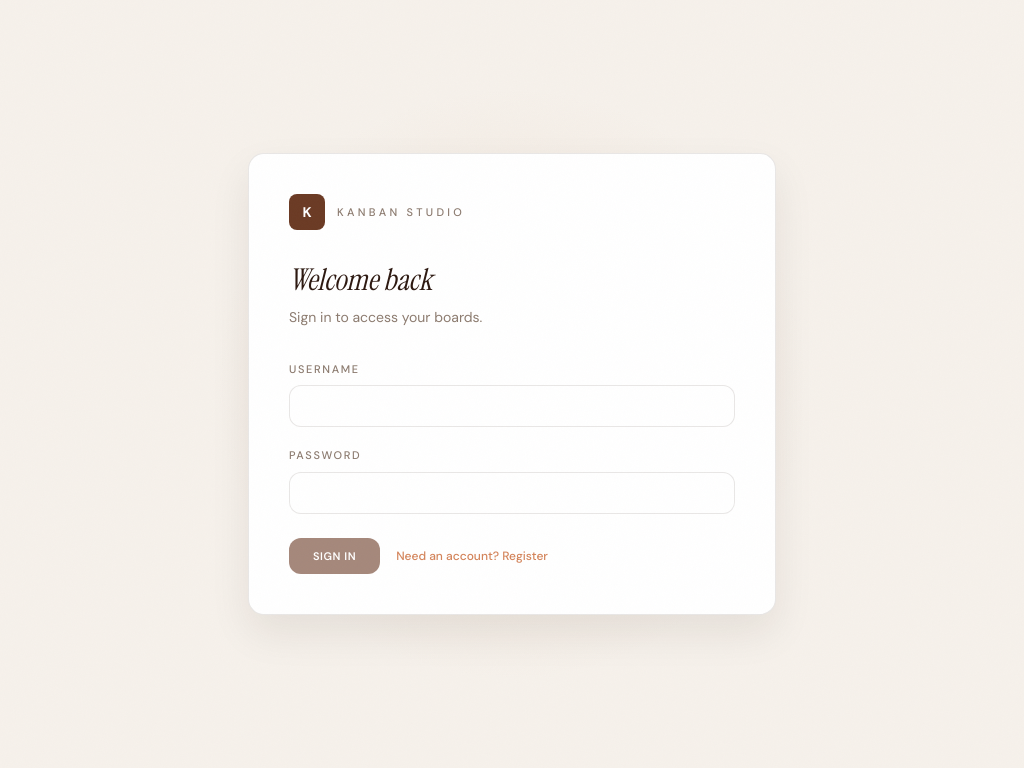
Test case: Home auth flow › logs in successfully and stores token
Type "user" into the field labelled "Username". click: (512, 406)
box: x1=289 y1=385 x2=735 y2=427
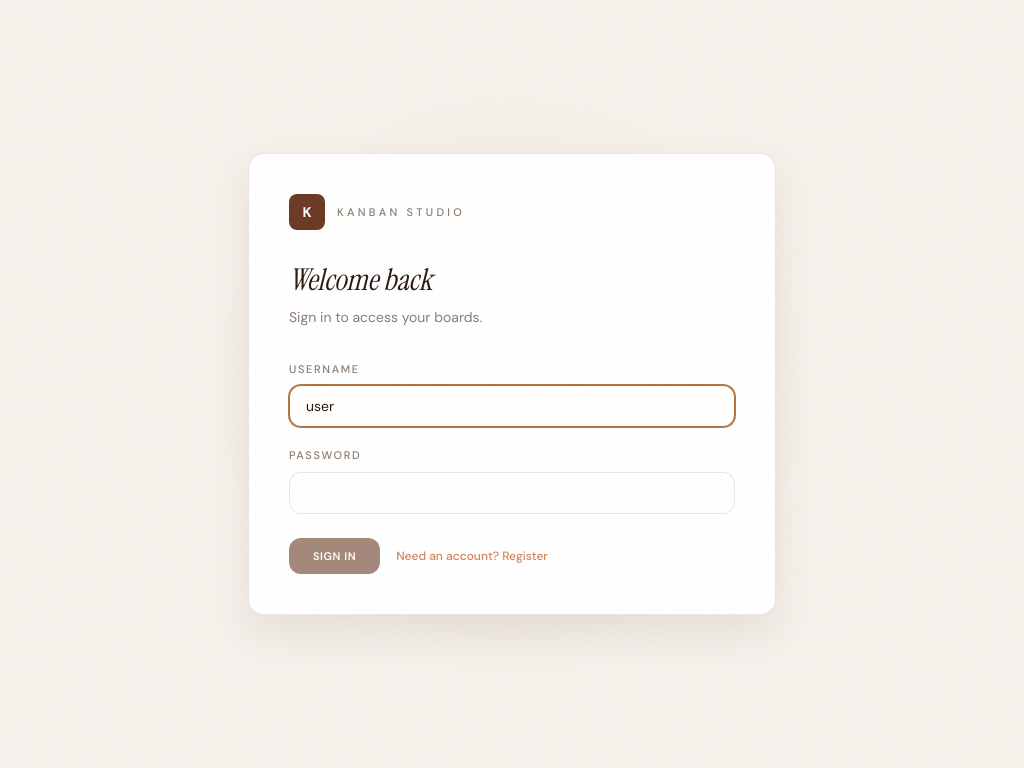
Type "password" into the password field labelled "Password". click: (512, 493)
box: x1=289 y1=472 x2=735 y2=514
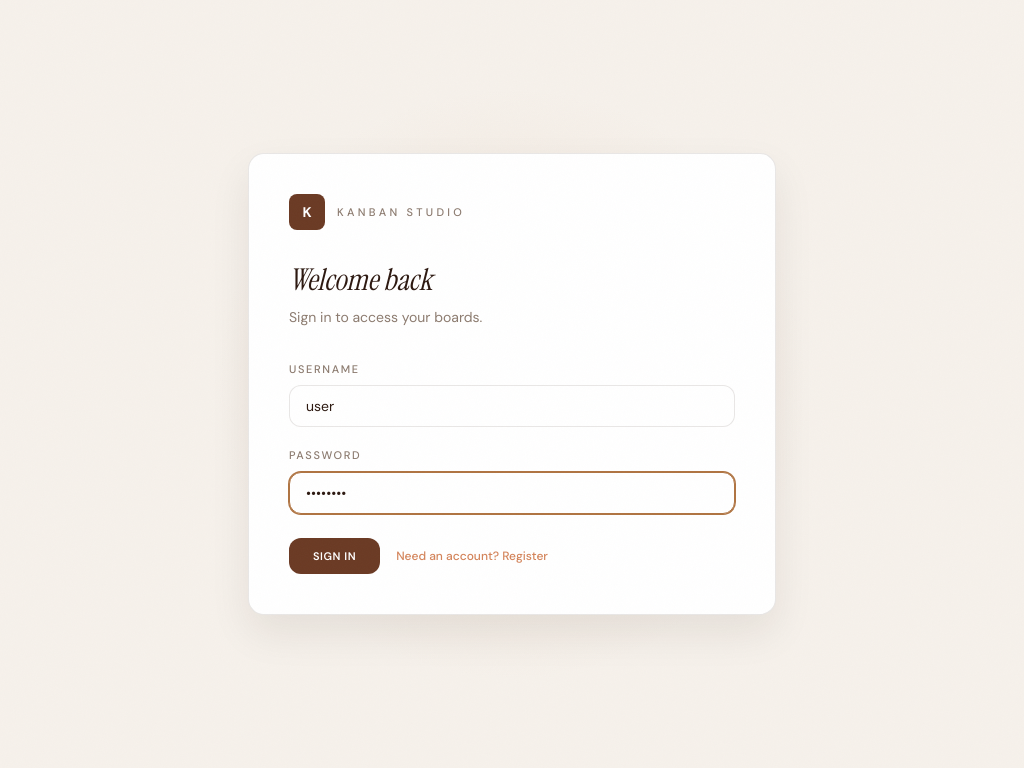
Click the button "Sign in". click: (335, 556)
box: x1=289 y1=538 x2=380 y2=574
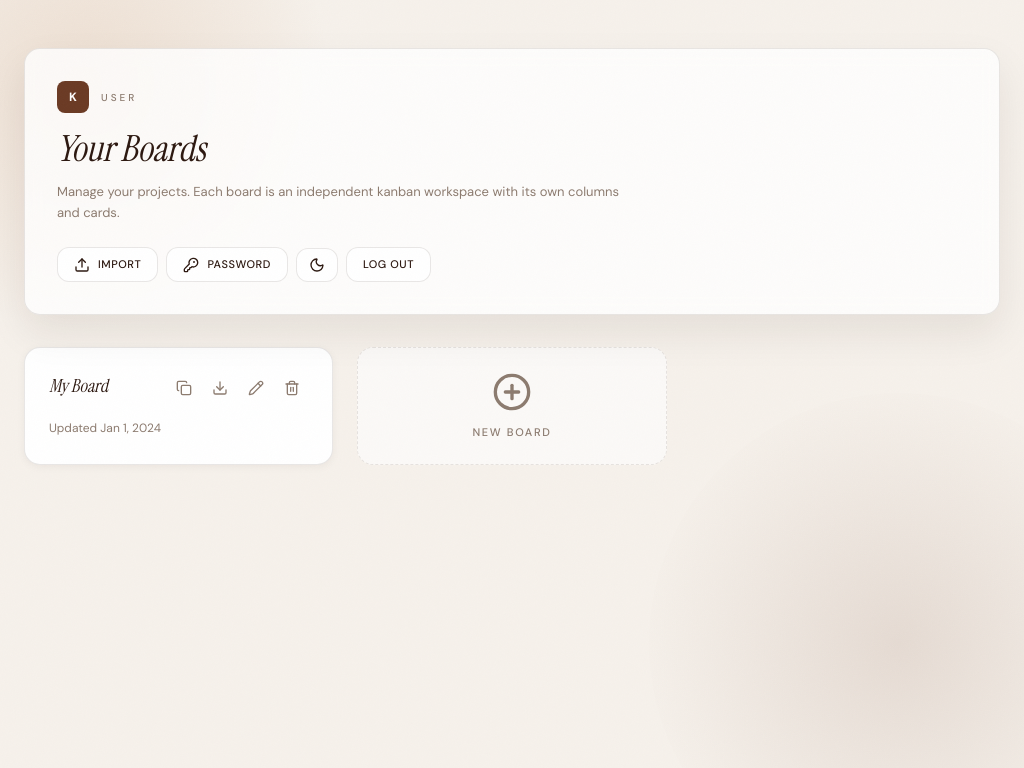
Result: the heading "Your Boards" is shown at x1=57 y1=125 x2=206 y2=172
